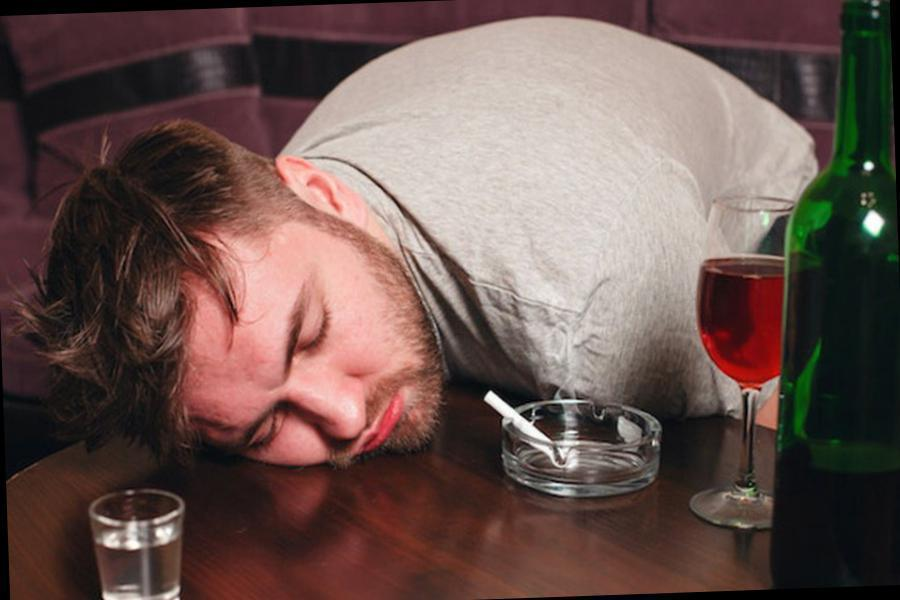Drunk: (179, 244, 435, 469)
